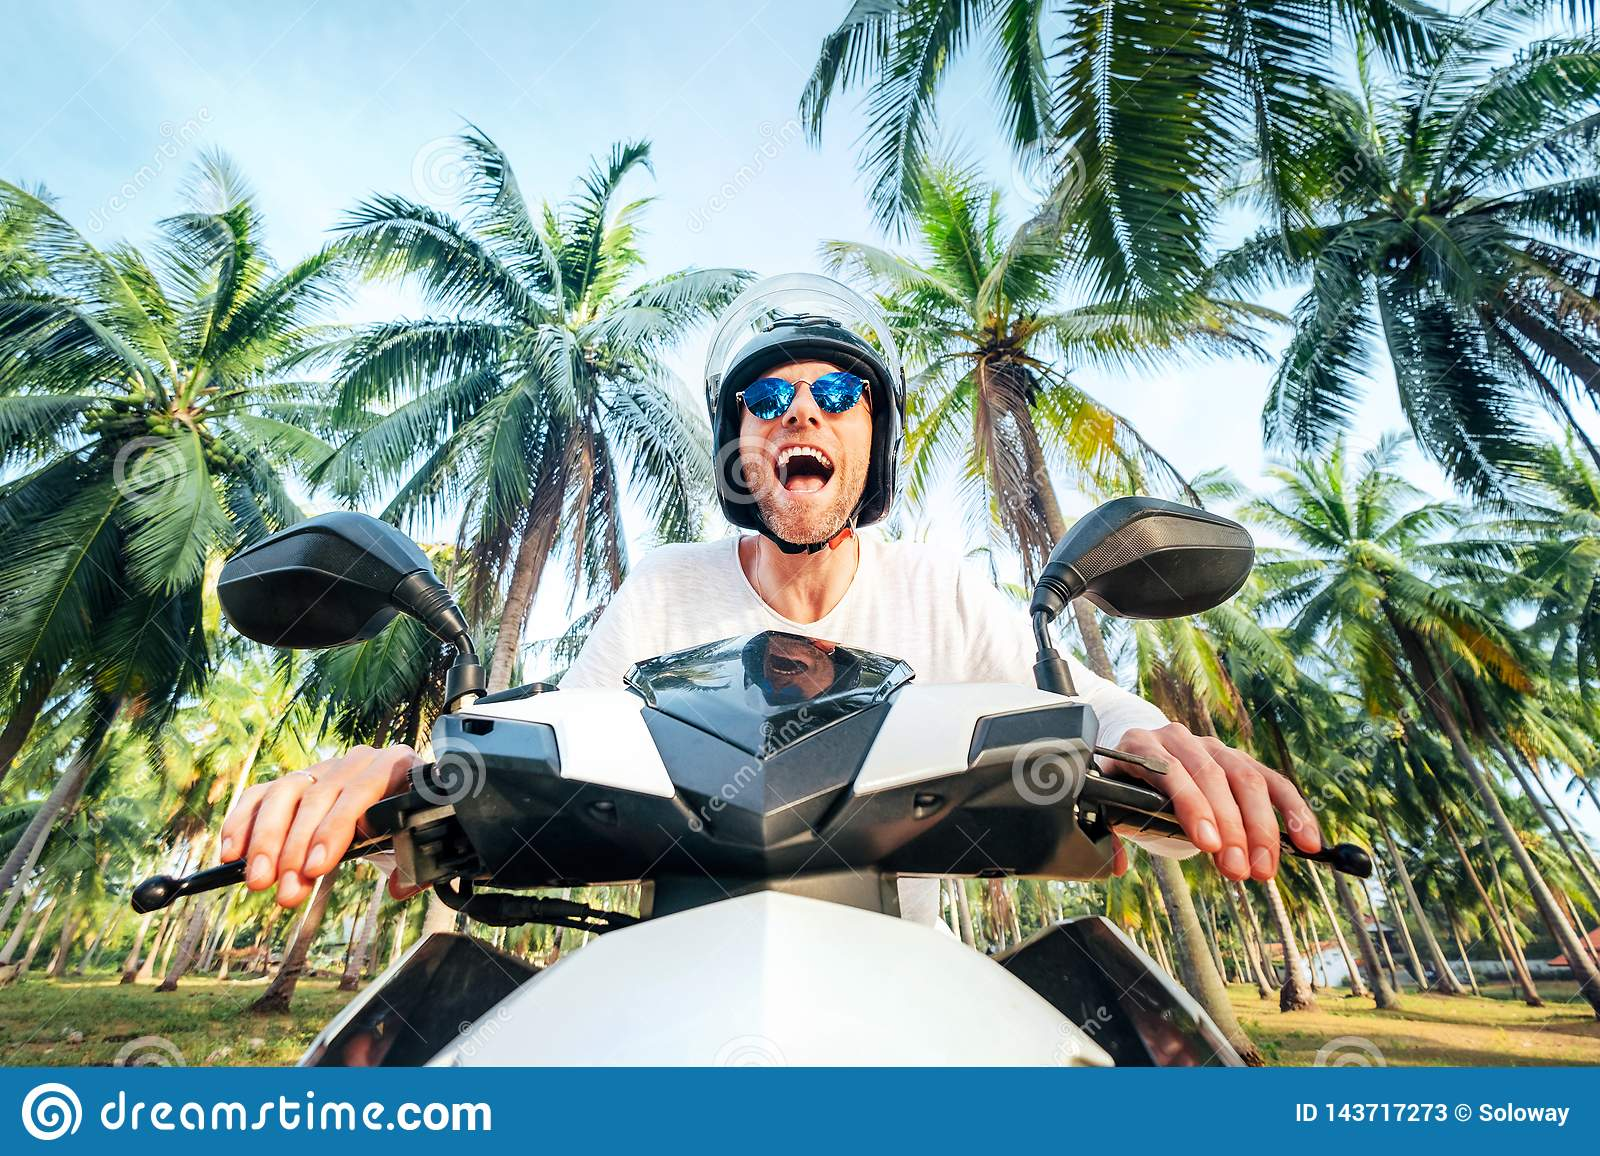helmet: (699, 266, 907, 461)
